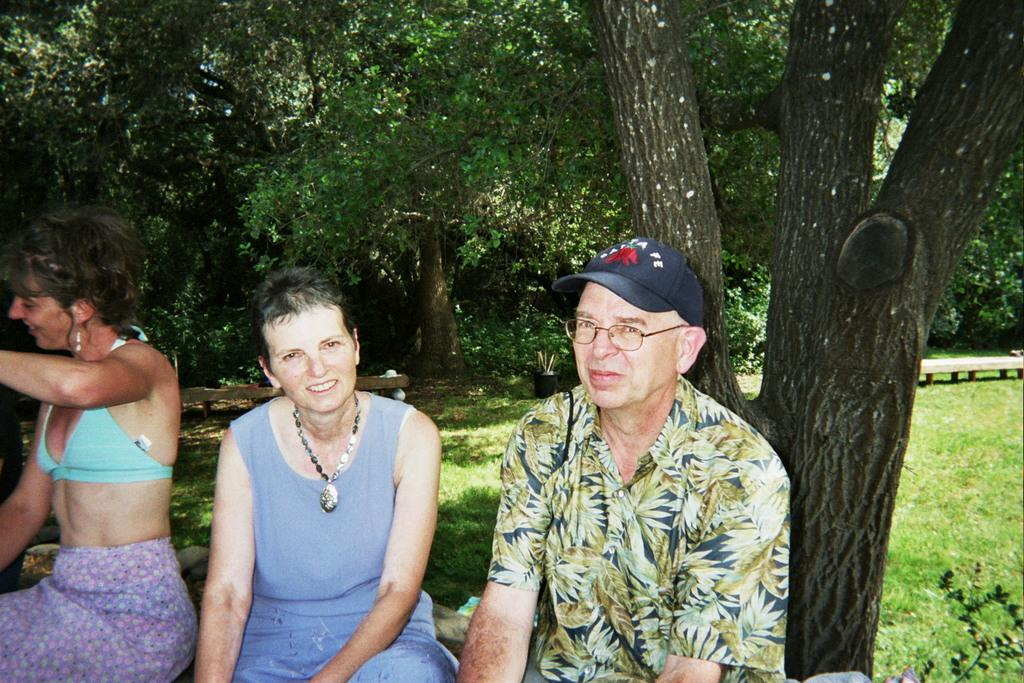Hat: (552, 246, 708, 344)
